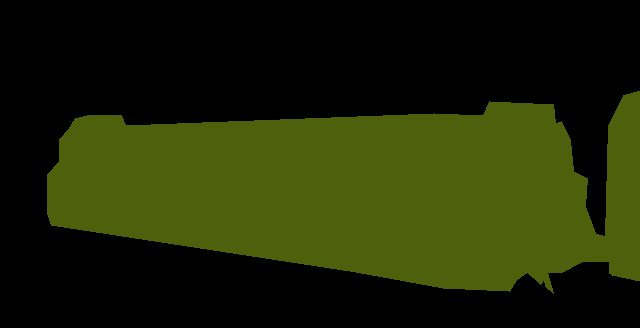Train: (47, 90, 640, 293)
